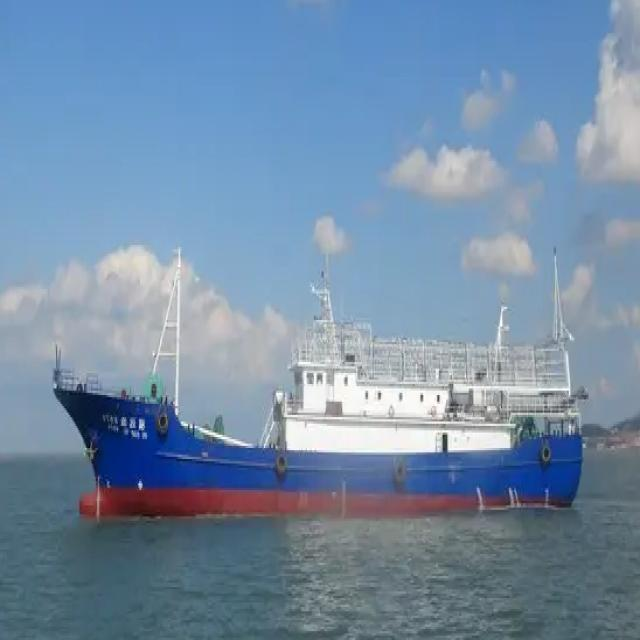cargoship: (49, 231, 578, 516)
